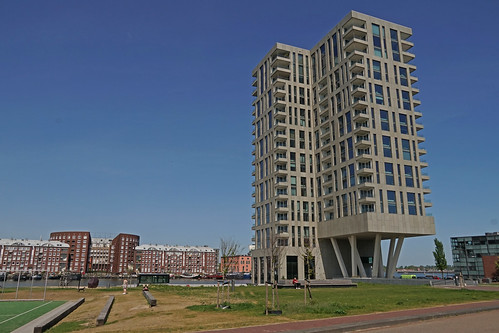low: (243, 6, 440, 286)
